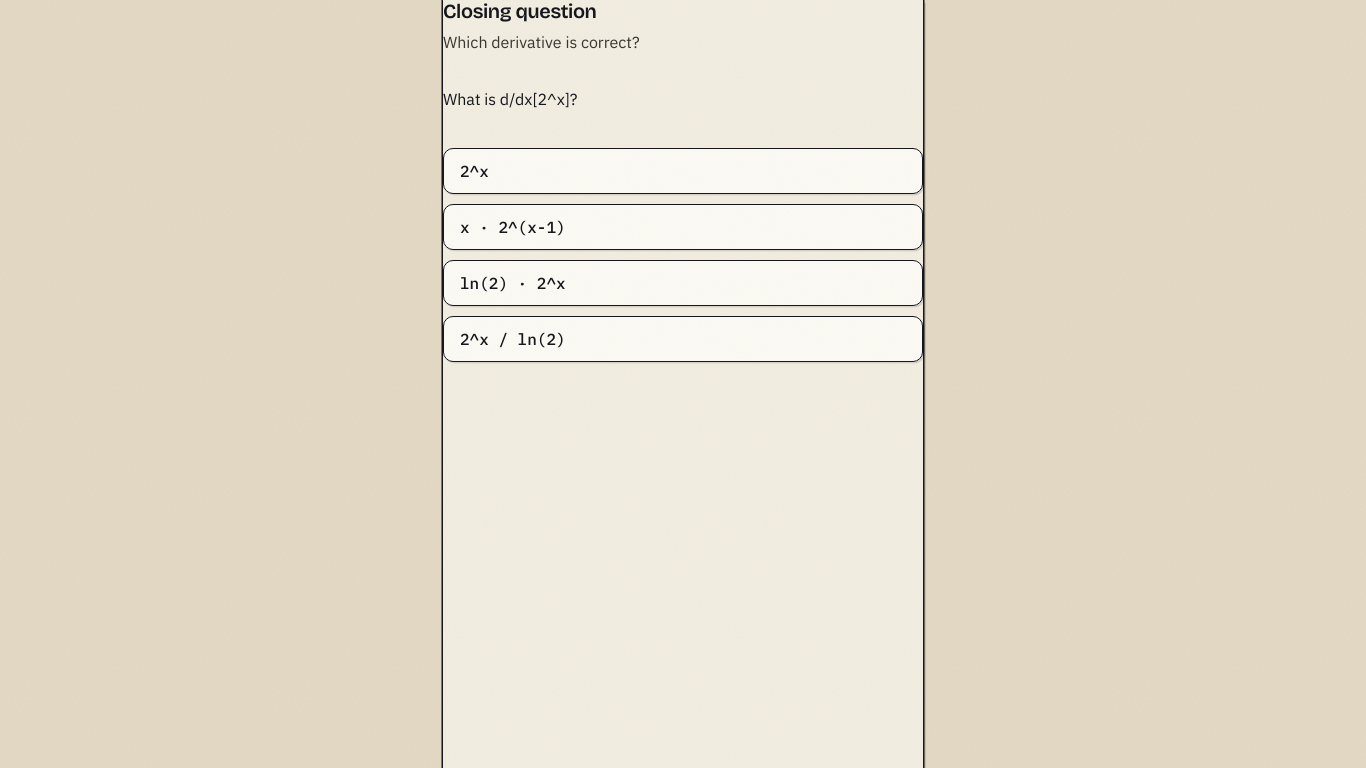
Test: MultipleChoiceSlide (L4) › shows feedback and stays open when a wrong option is chosen
Click the button "2^x" at (474, 171), box [443,148,923,194]
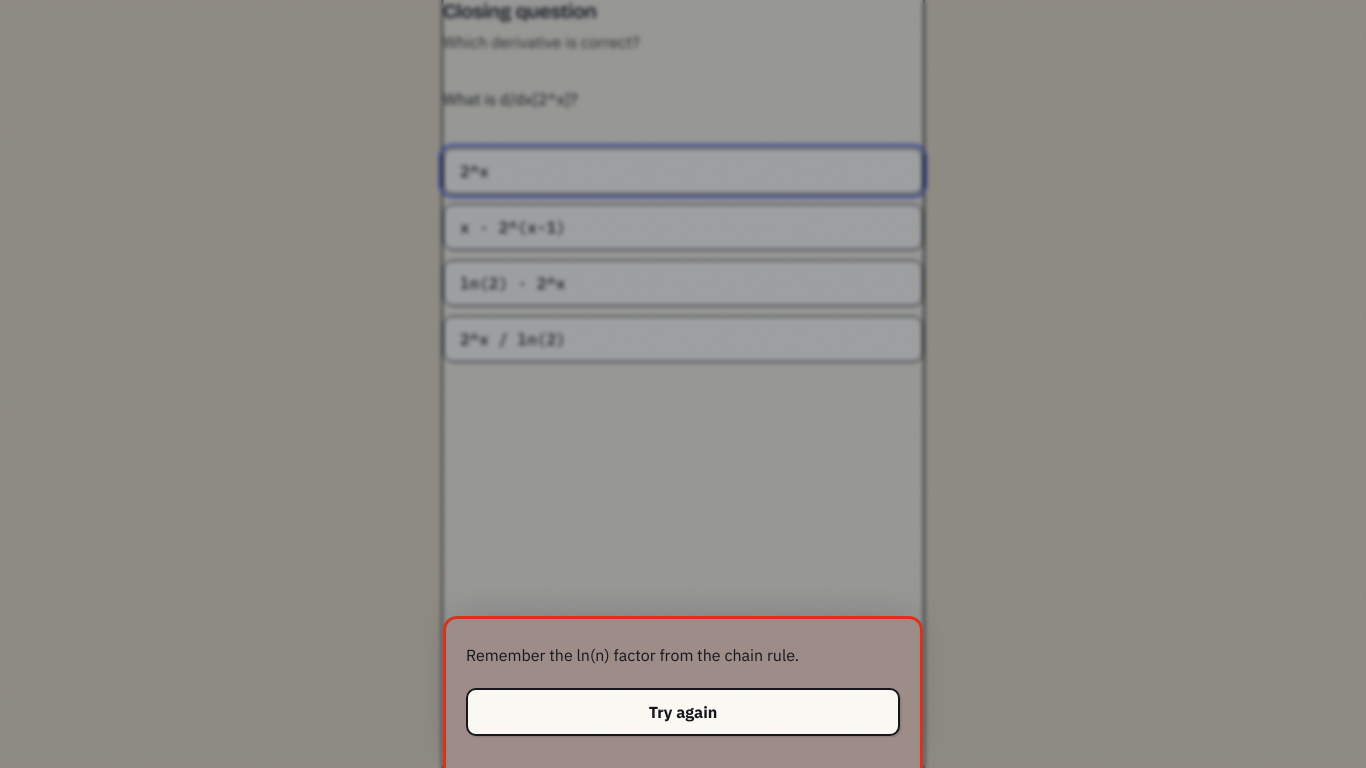
Expected: the text "Remember the ln(n) factor from the chain rule." is shown, [466,645,799,665]
